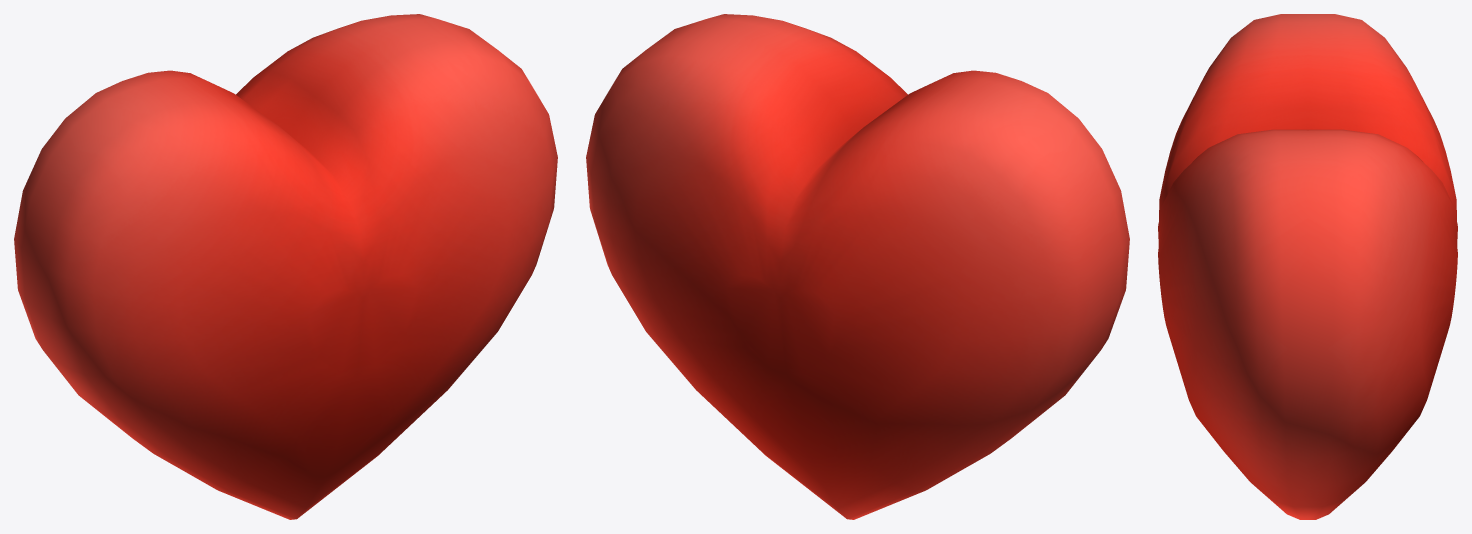
The model's file is ENV2010062.fbx.
3 renders of one model, left to right at view 1: azimuth 30°, elevation 25°; view 2: azimuth 150°, elevation 25°; view 3: azimuth 270°, elevation 25°, orthographic. The views are drawn at different scales.
Parts seen in each view (by area): view 1: smENV2010062; view 2: smENV2010062; view 3: smENV2010062.
Boxes of the visible parts, x1,y1,x2,y2 form: smENV2010062: [14, 14, 557, 519]; smENV2010062: [586, 14, 1129, 519]; smENV2010062: [1158, 14, 1457, 519].
Bounding box in the file's own units: 15.77 × 13.57 × 8.51.
1 material, 1 textured.
